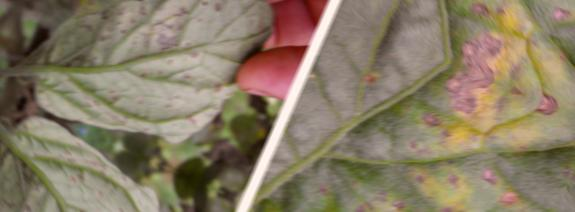Tomato Septoria leaf spot: (264, 25, 575, 212), (13, 0, 300, 184)
